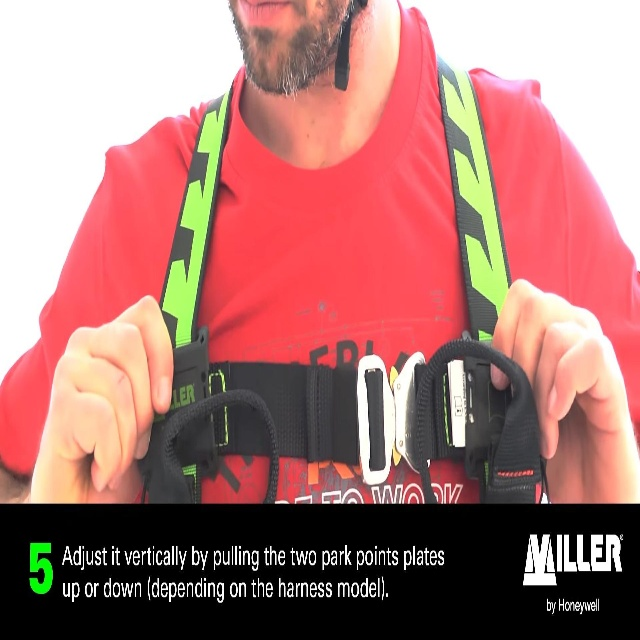Arnes_seguridad: (139, 67, 550, 504)
